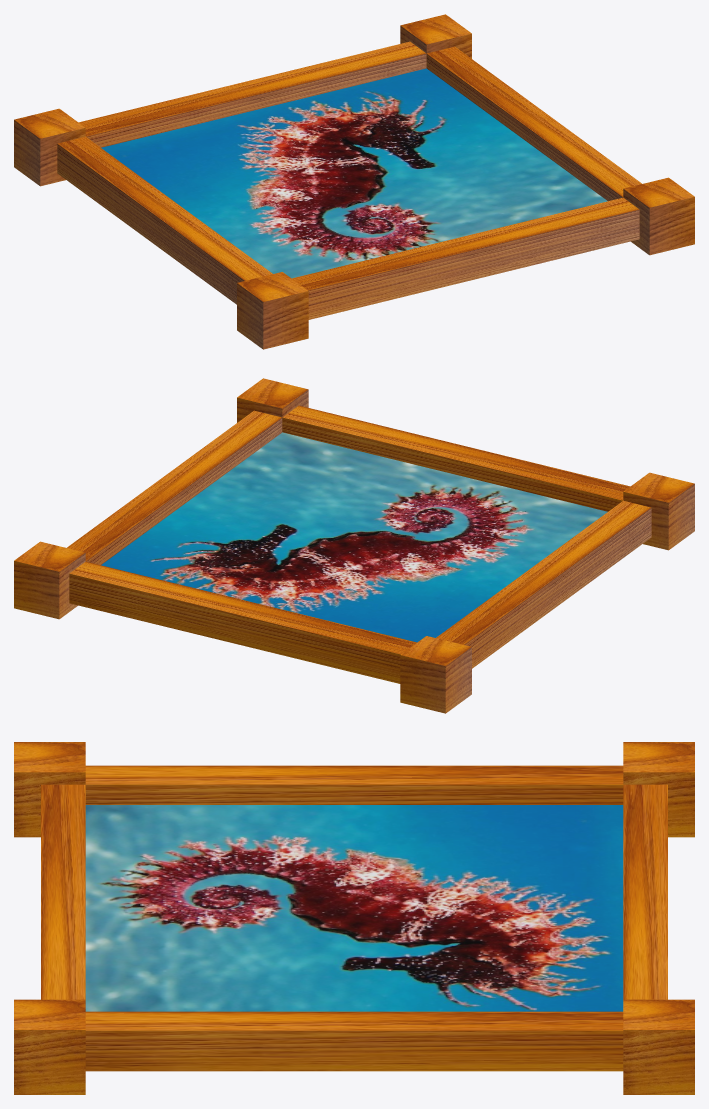
Rendered from CaballitoDeMar.fbx.
3 views of the same model, one above another, from view 1: azimuth 30°, elevation 25°; view 2: azimuth 150°, elevation 25°; view 3: azimuth 270°, elevation 25° (orthographic). The views are drawn at different scales.
Visible parts, largest first — view 1: CaballitoDeMar; view 2: CaballitoDeMar; view 3: CaballitoDeMar.
Part boxes in pixels (box(x1,y1,x2,y2)): CaballitoDeMar: box(14, 14, 694, 349); CaballitoDeMar: box(14, 378, 694, 713); CaballitoDeMar: box(14, 742, 694, 1094).
Bounding box in the file's own units: 76 × 8 × 76.
